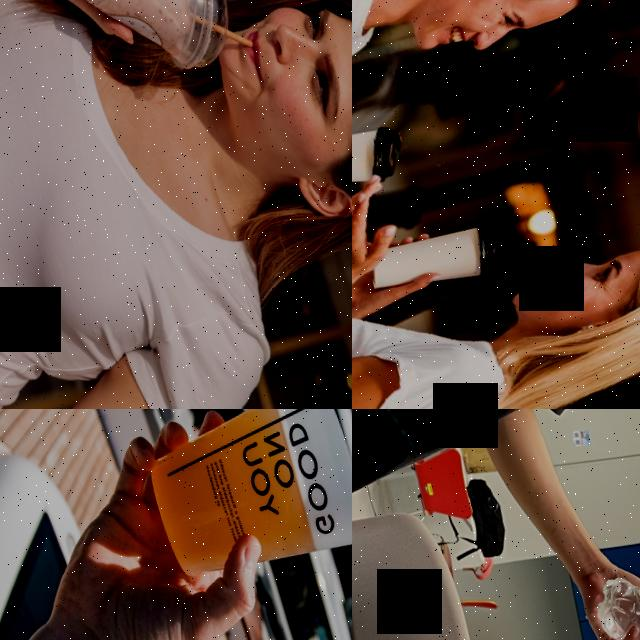cup: (132, 409, 352, 595), (61, 0, 244, 97), (360, 215, 506, 308), (352, 112, 413, 207)
